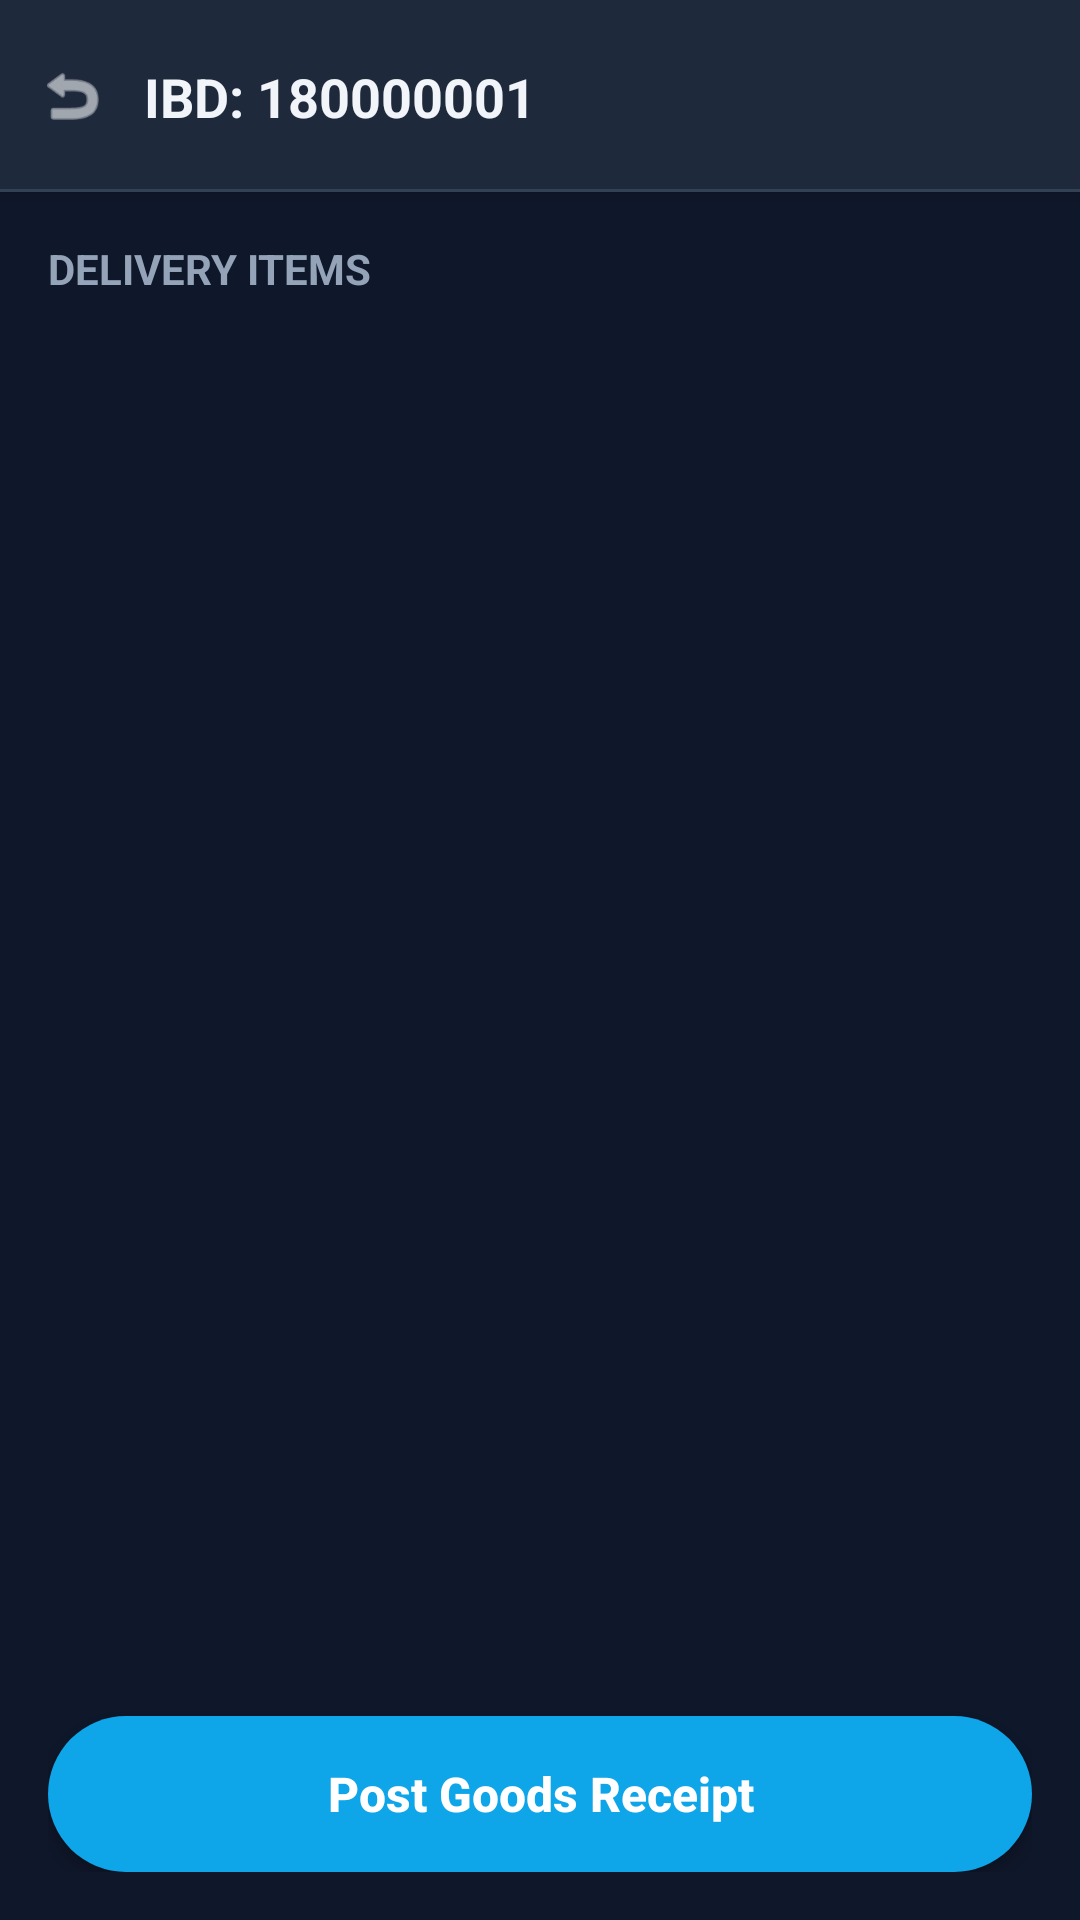

Named icons in this screenshot (1080 x 1920) and their centers, point (x, y):
revert: point (73, 96)
